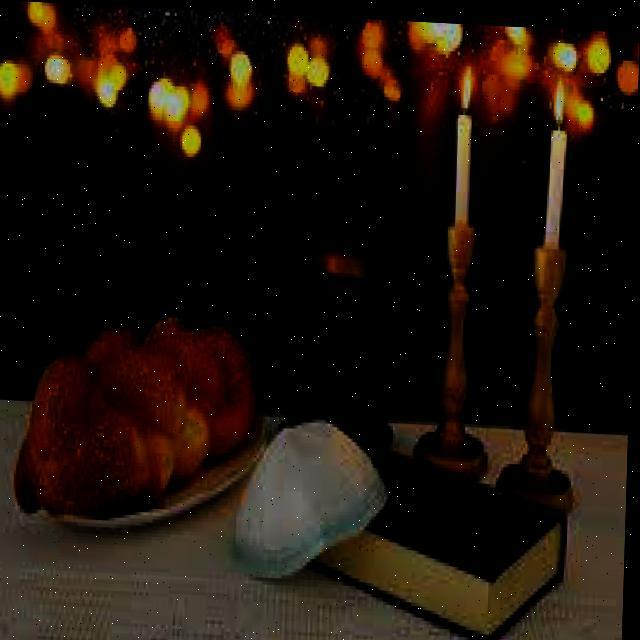Fire: (544, 64, 570, 124), (456, 54, 472, 104)
